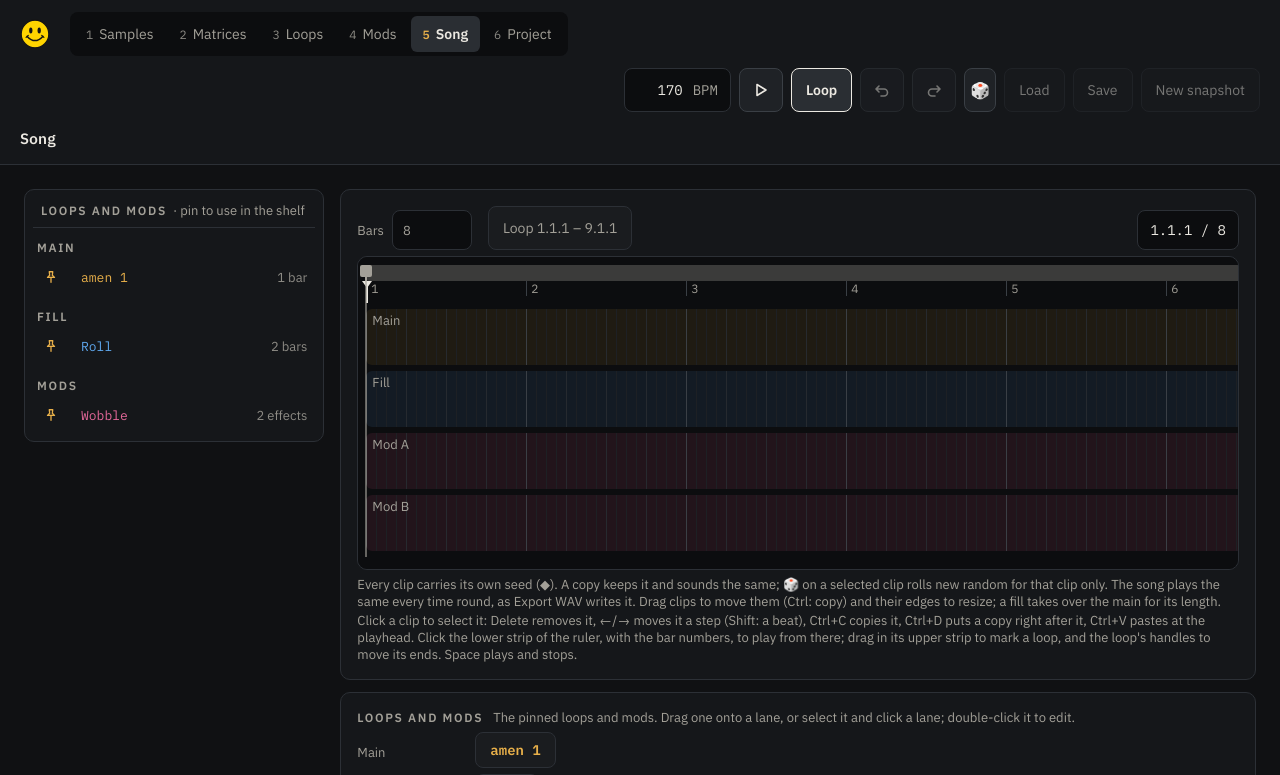
Test: The shelf Loops and mods (Magnus beslut 2026-10-22) › asks for a pin when nothing is pinned
The width and height of the screenshot is (1280, 775).
Click the button named "Unpin amen 1" at x=51, y=277, box [33,259,69,295]
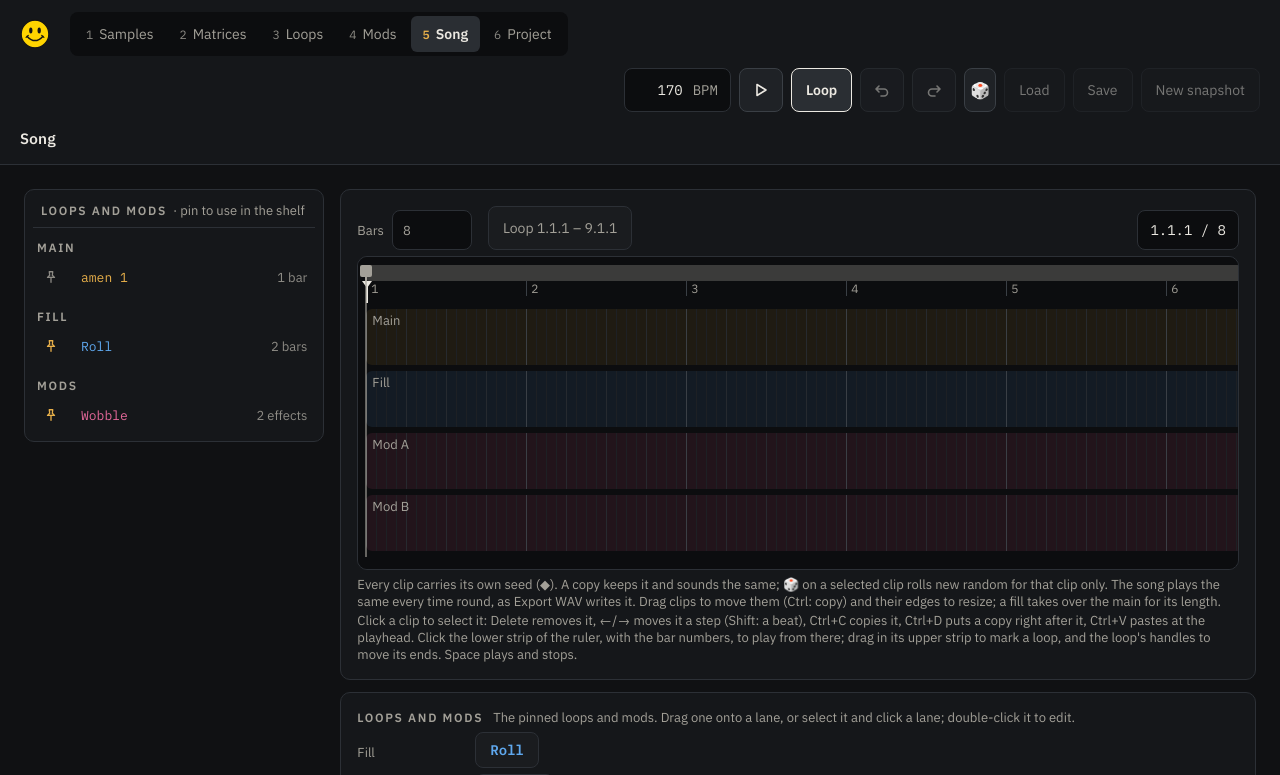
Click the button named "Unpin Roll" at x=51, y=346, box [33,328,69,364]
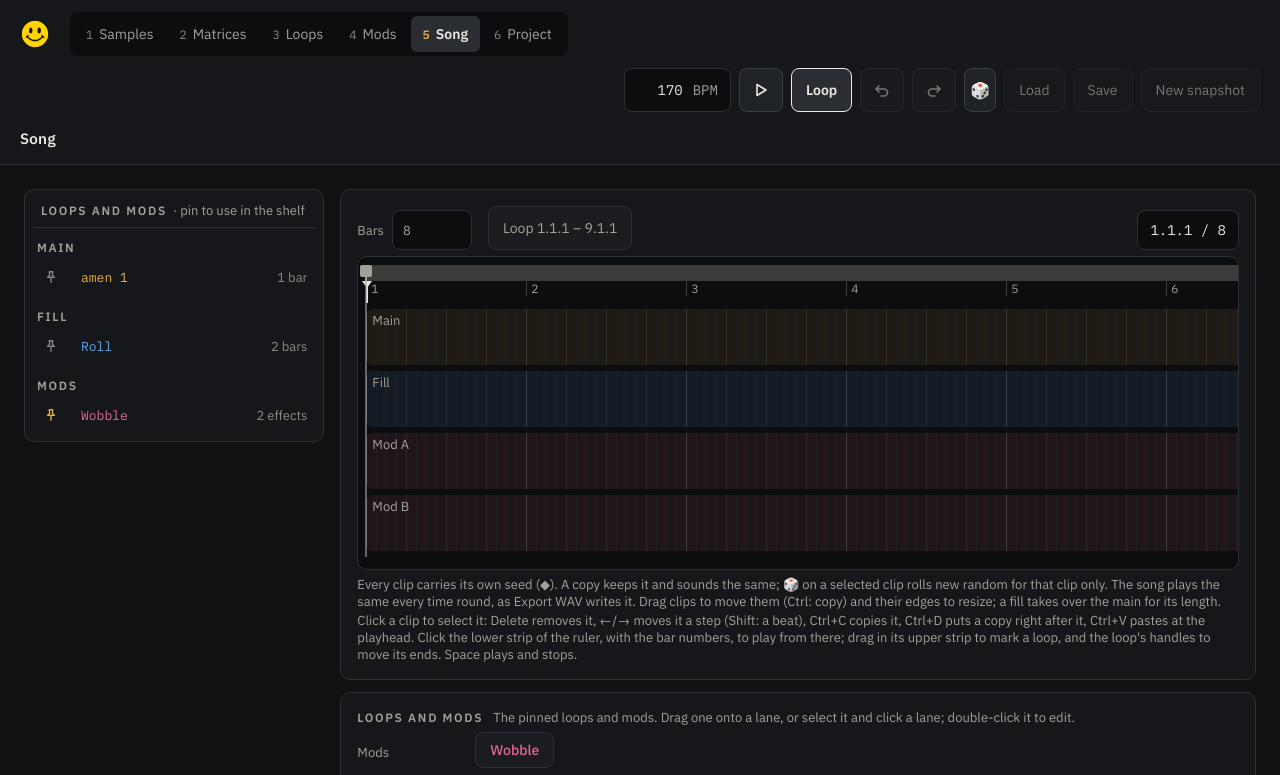
Click the button named "Unpin Wobble" at x=51, y=415, box [33,397,69,433]
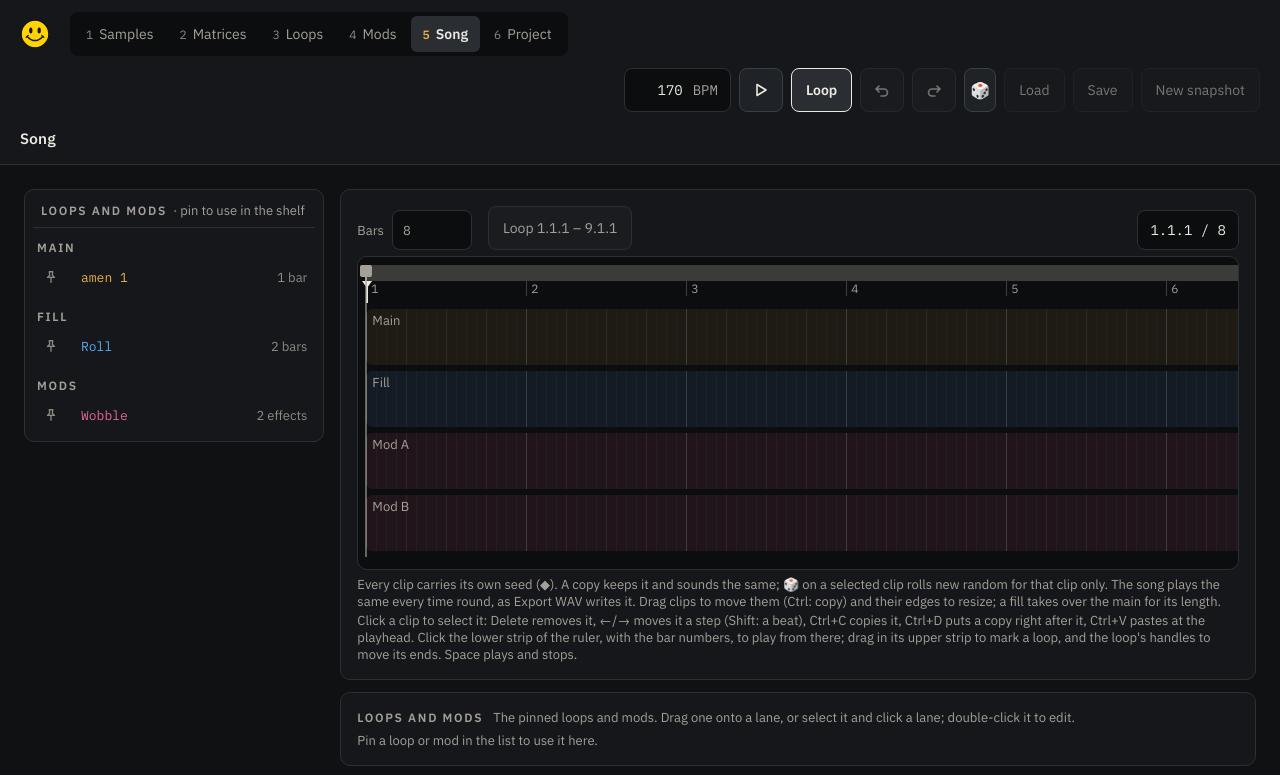
Now the text "Pin a loop or mod in the list to use it here." is shown, box [357,732,598,749]
